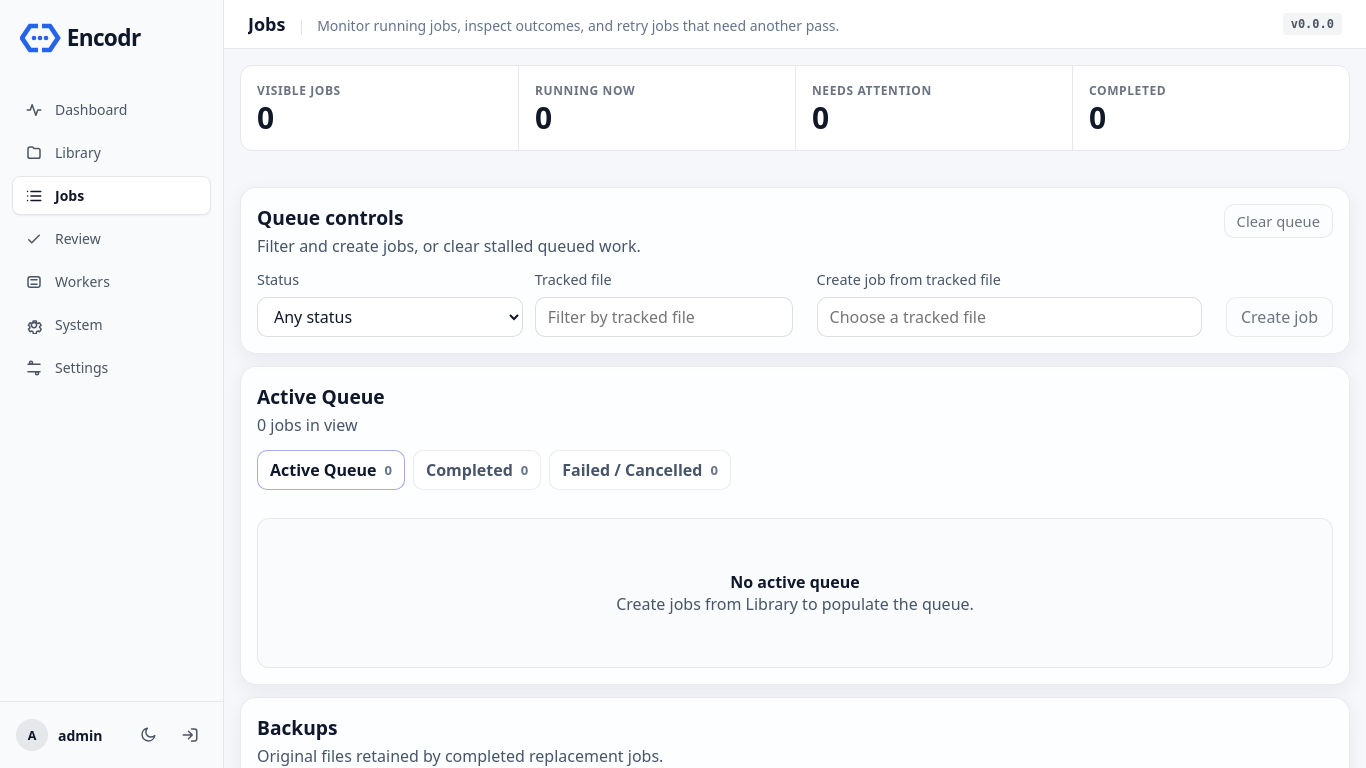
it: Encodr UI shell › keeps the jobs page visible when create job returns an API conflict
The width and height of the screenshot is (1366, 768).
Step 1. Click the field labelled "Create job from tracked file" → (1009, 318), box [817,298,1202,338]
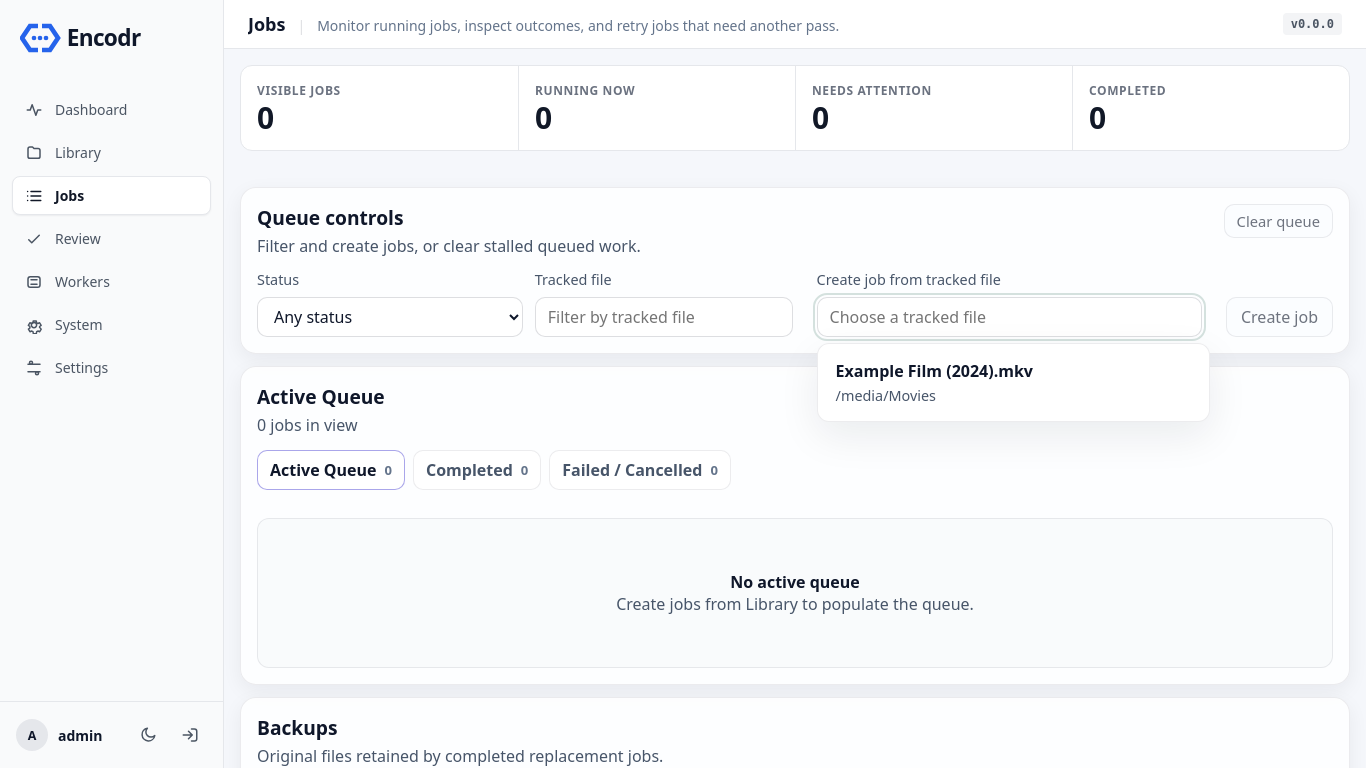
Step 2. Click the option "Example Film (2024).mkv /media/Movies" → (1013, 383), box [824,350,1203,416]
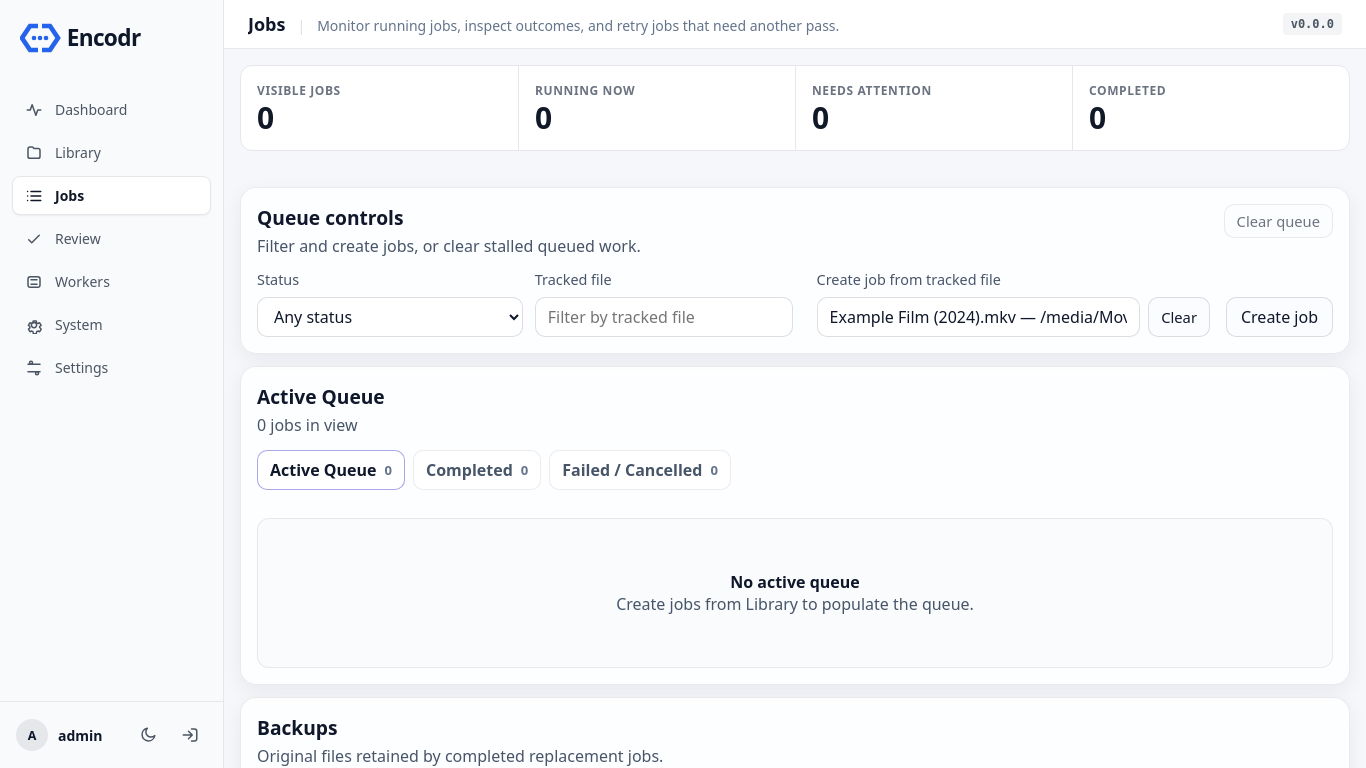
Step 3. Click the button "Create job" → (1280, 318), box [1226,298,1333,338]
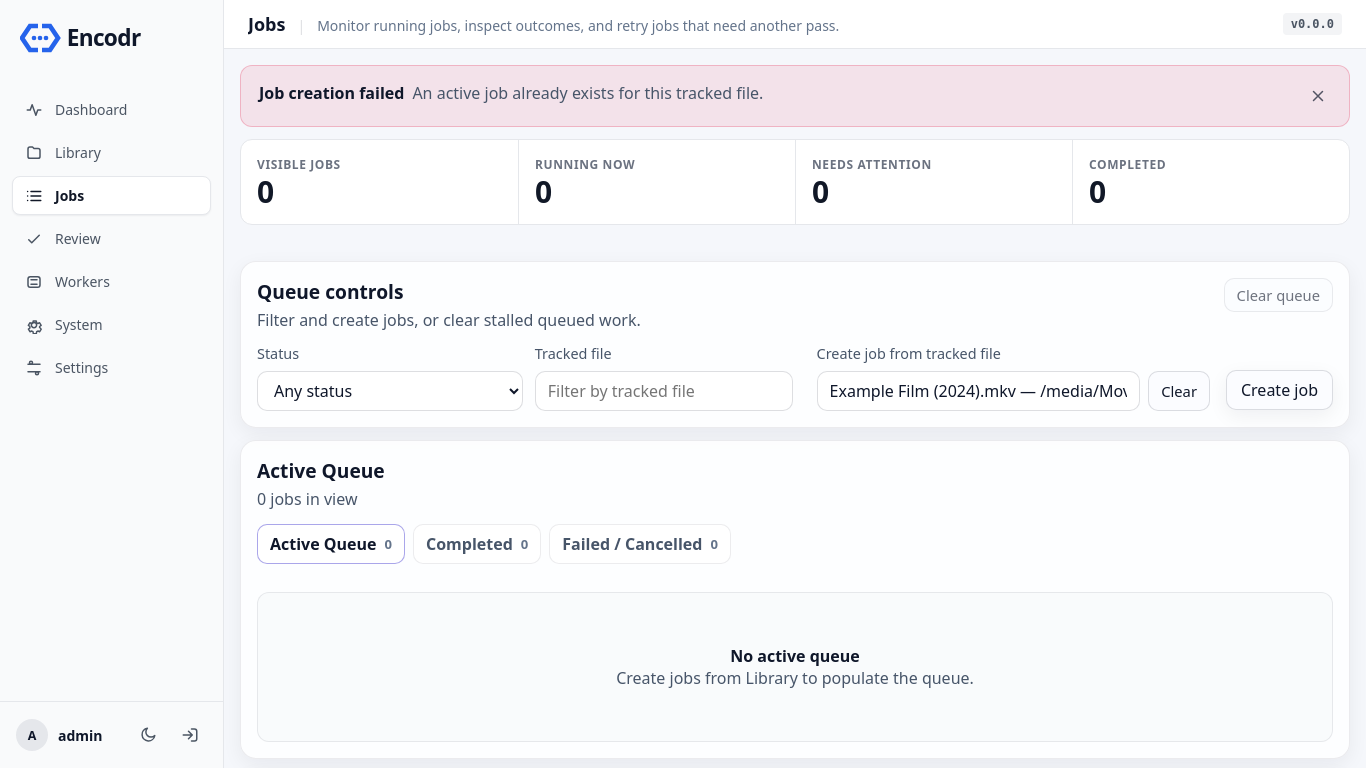
expect the text "Job creation failed" is shown: met, box [259,82,404,104]
expect the text "An active job already exists for this tracked file." is shown: met, box [412,82,763,104]
